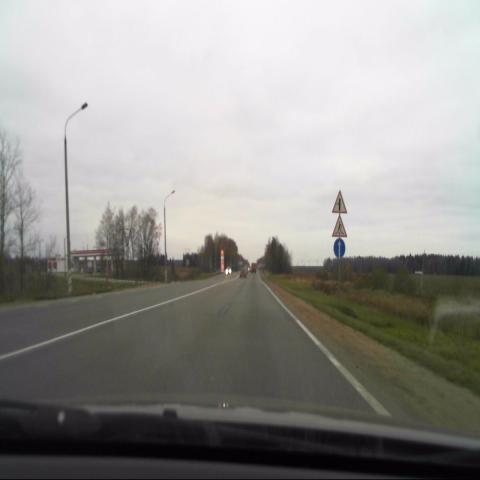1_22: (332, 214, 348, 237)
2_3_3: (330, 190, 348, 214)
4_1_1: (332, 235, 346, 259)
